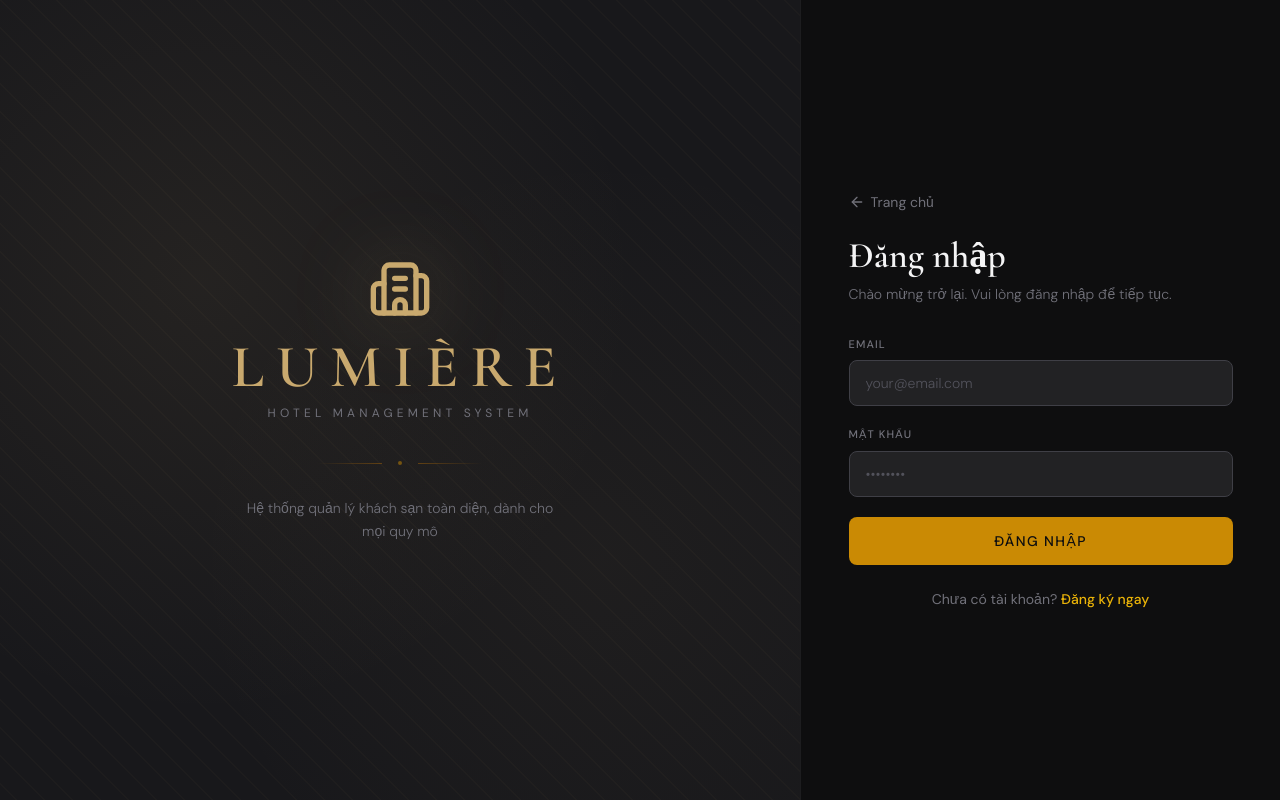
Test: LoginPage › should show invalid email error after blur
Type "invalid-email" into the field labelled "Email" at [1040, 383], box x1=848 y1=360 x2=1232 y2=406
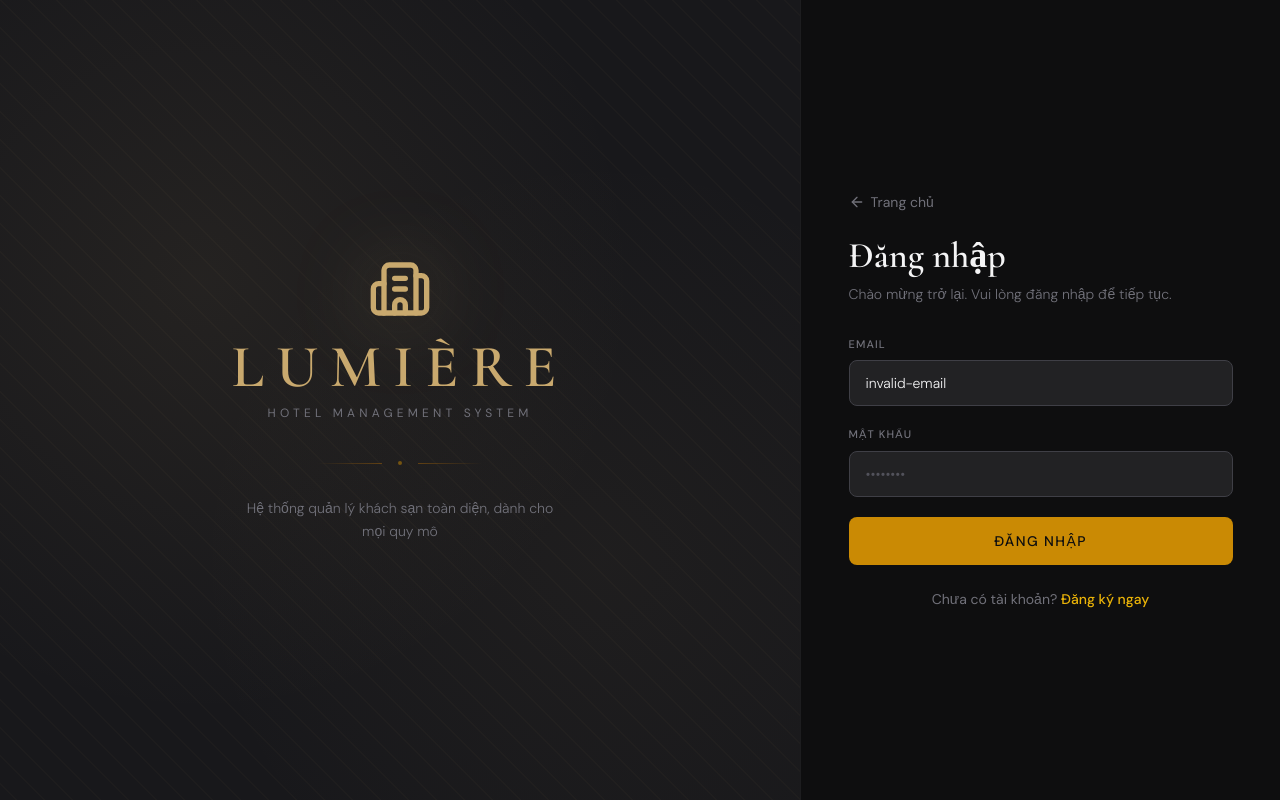
Leave the field labelled "Email", box x1=848 y1=360 x2=1232 y2=406
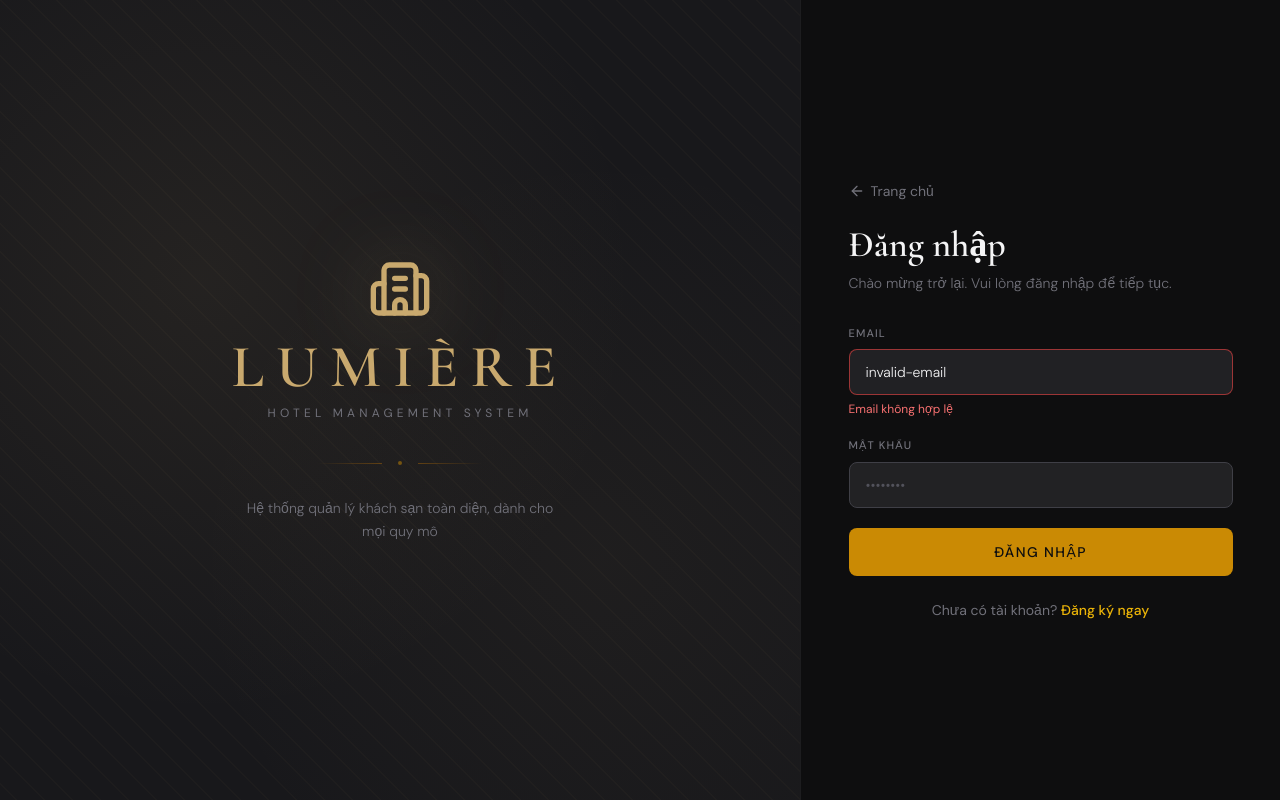
expect the text "Email không hợp lệ" is shown: met, box x1=848 y1=401 x2=953 y2=417
